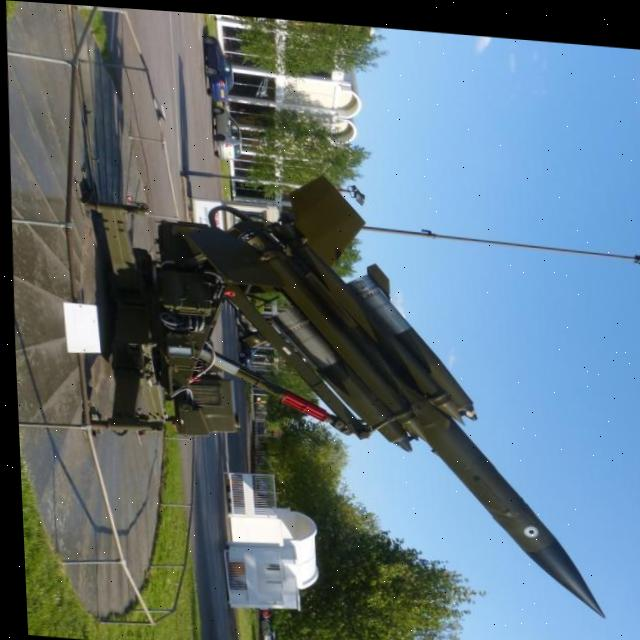missile: (225, 187, 614, 611)
